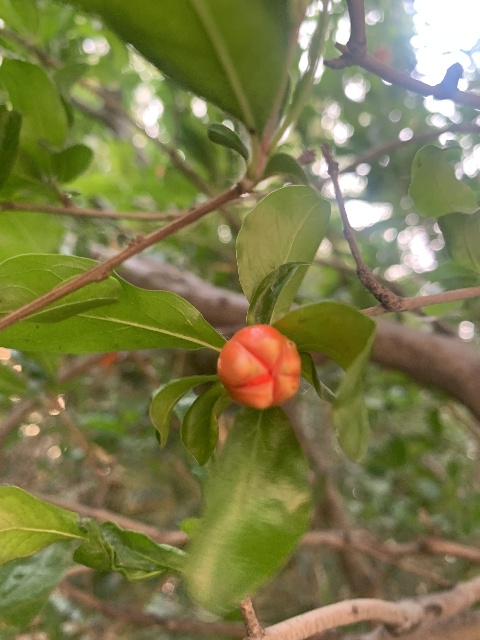bud: (217, 324, 300, 410)
